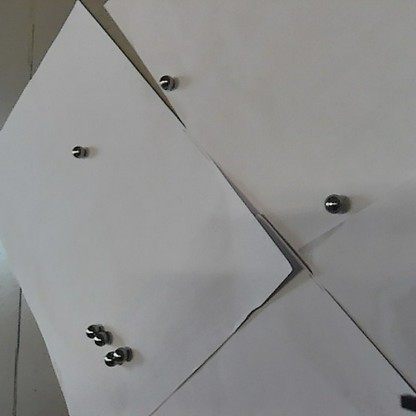ironball: (322, 192, 345, 215), (111, 346, 129, 364), (155, 75, 176, 90), (83, 321, 98, 340), (101, 350, 116, 369), (69, 144, 86, 160), (93, 331, 108, 348)
